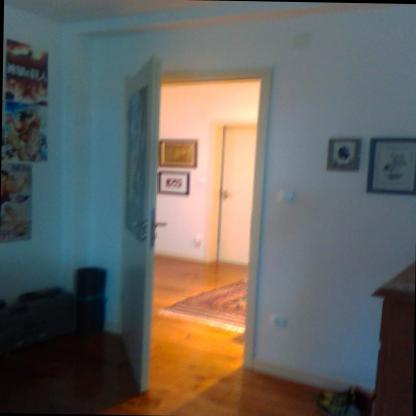semi: (106, 43, 288, 402)
